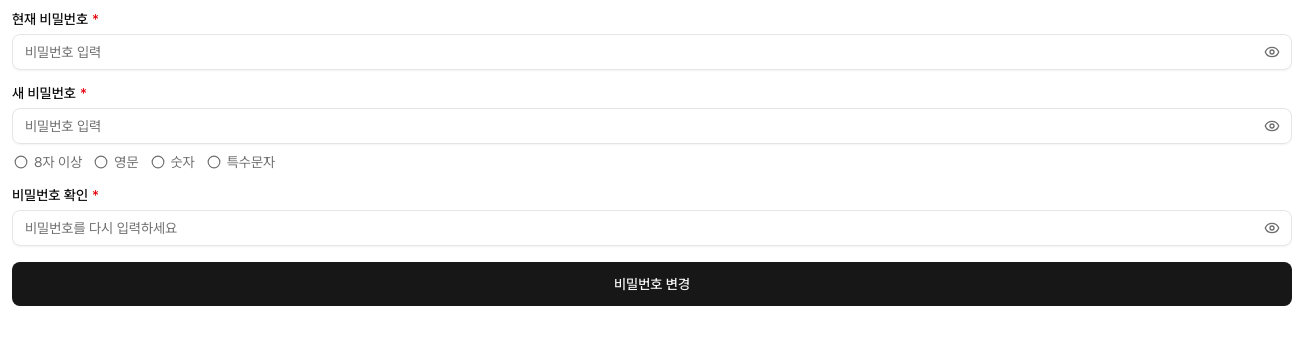
Scenario: ChangePasswordForm › 확인 칸이 새 비밀번호와 같아지면 일치 문구가 뜬다
In the password field labelled "새 비밀번호*": [652, 126] box [12,108,1292,144], type "Abcdef1!"
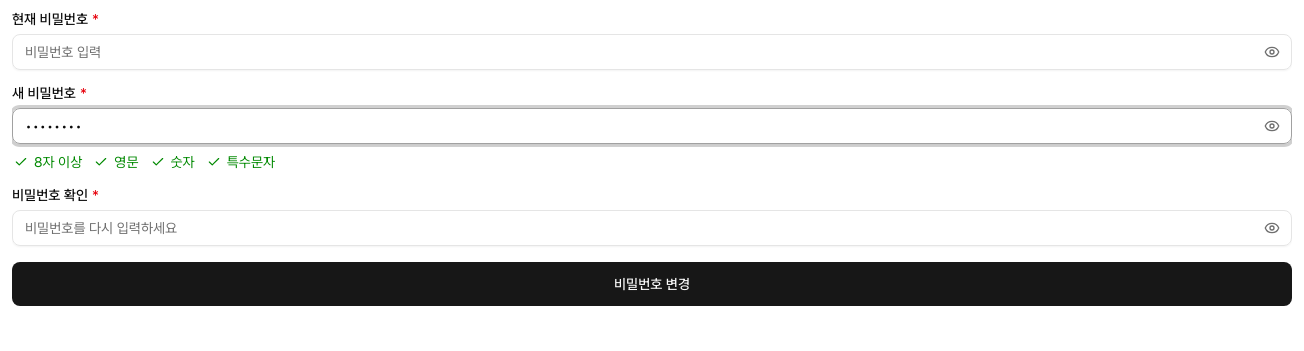
In the password field labelled "비밀번호 확인*": [652, 228] box [12,210,1292,246], type "Abcdef1!"
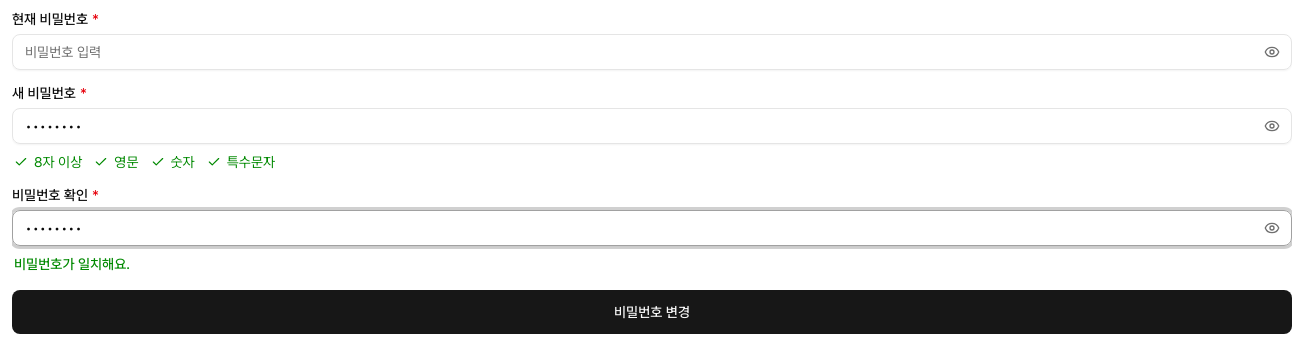
Expected: the text "비밀번호가 일치해요." is shown, [14,256,130,272]
